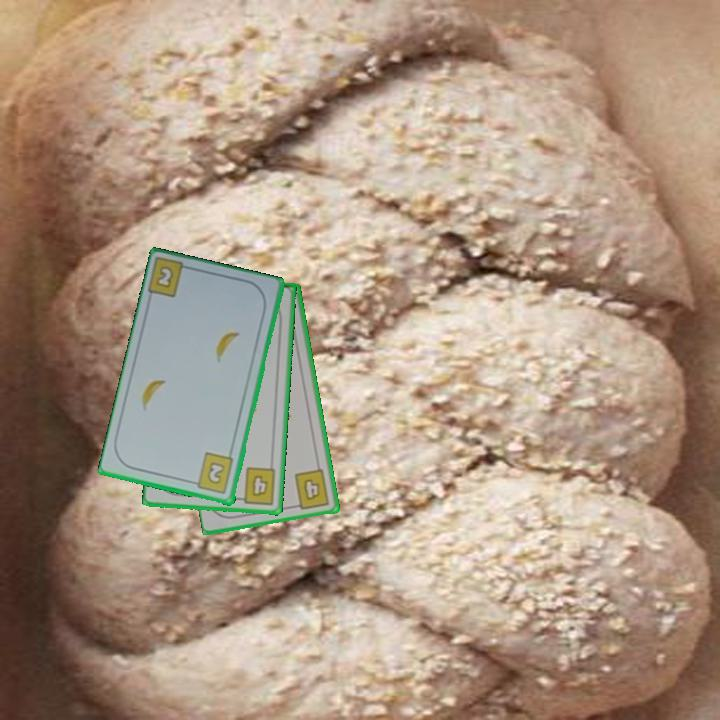2b: (188, 449, 237, 497), (153, 263, 176, 292)
4b: (233, 464, 279, 507), (290, 466, 332, 512)
